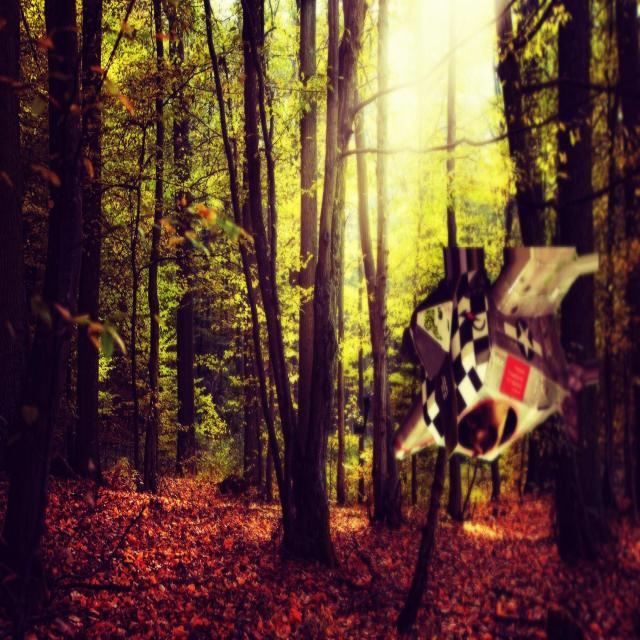airplane: (390, 205, 600, 466)
